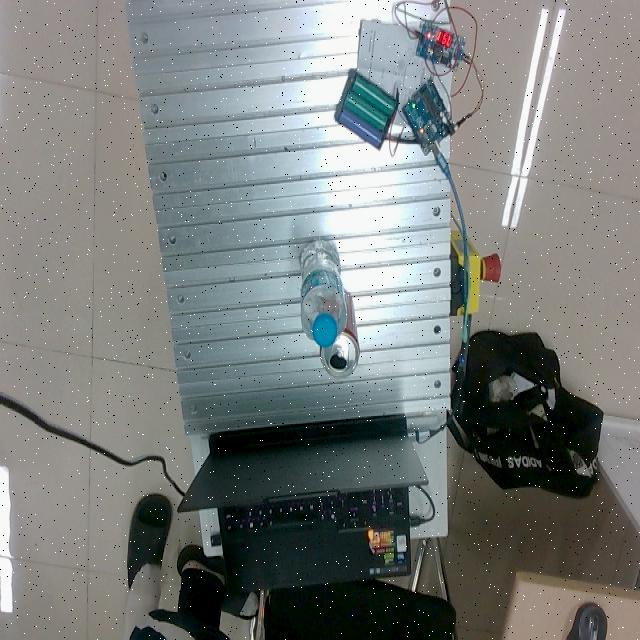coca: (320, 288, 361, 380)
lavie: (299, 240, 348, 349)
